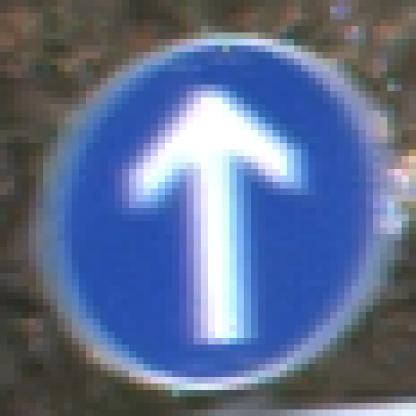AheadOnly: (44, 34, 381, 385)
